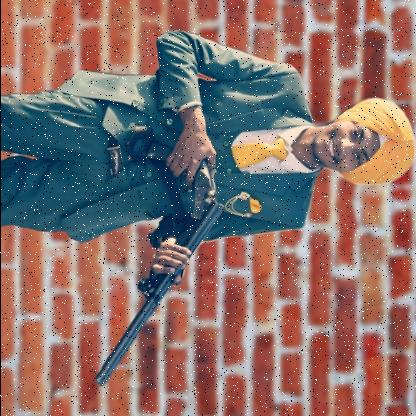rifle: (90, 140, 226, 388)
